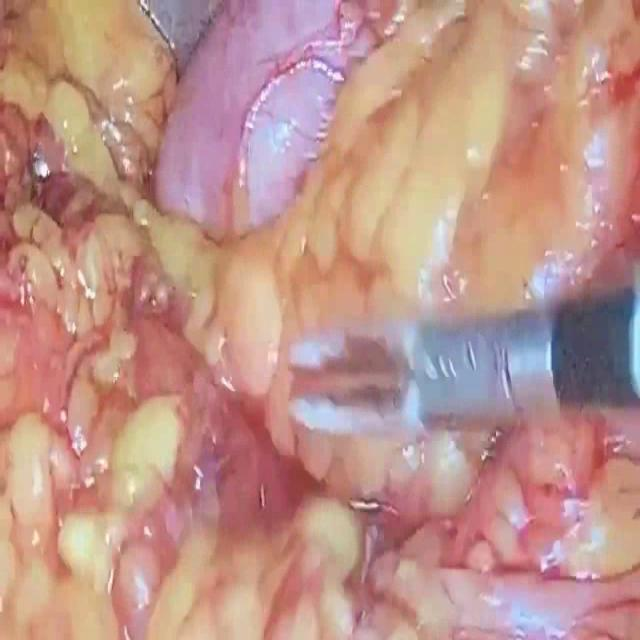surgical-tool: (286, 292, 640, 436)
